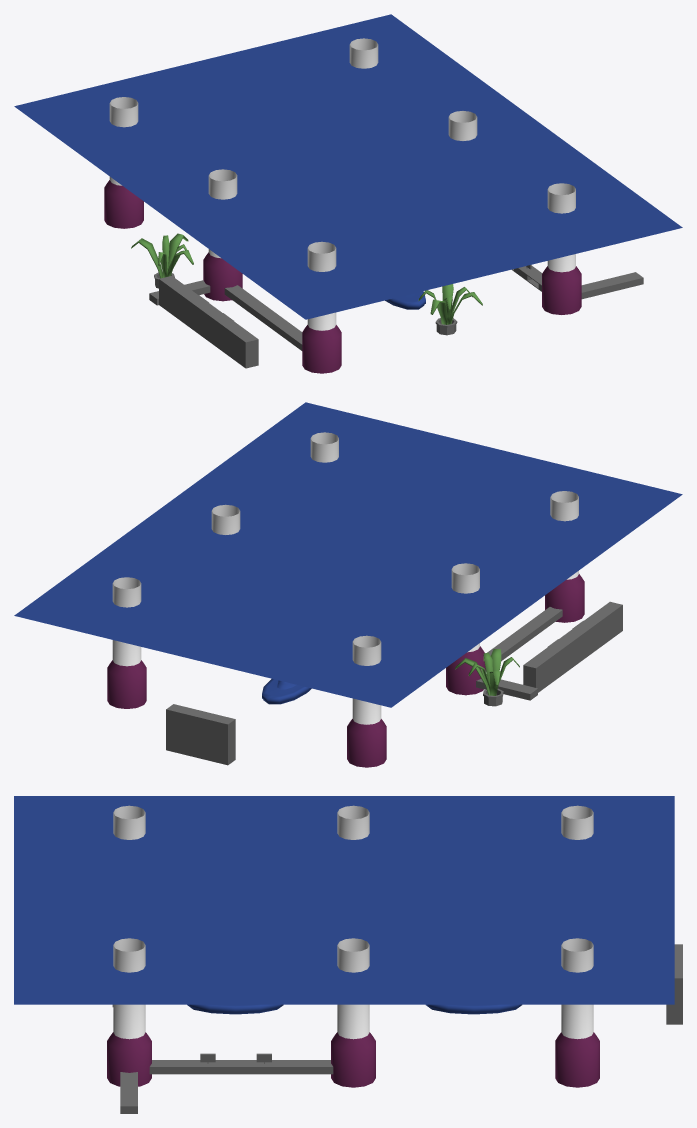
Rendered from Lobby.fbx.
The picture shows the model from 3 angles, top to bottom: view 1: azimuth 30°, elevation 25°; view 2: azimuth 150°, elevation 25°; view 3: azimuth 270°, elevation 25°; orthographic projection. The views are drawn at different scales.
Parts seen in each view (by area): view 1: Ceiling, Pillars, Counter_Closet, Counter, Counter.001, Plane.002, Plane.003; view 2: Ceiling, Pillars, Counter_Closet, Front_Door, Counter, Plane.002, Couch; view 3: Ceiling, Pillars, Counter.001, Front_Door, couch, Couch.
Part boxes in pixels (bbox=[...]): Ceiling: bbox=[14, 14, 682, 319]; Pillars: bbox=[104, 38, 581, 373]; Counter_Closet: bbox=[159, 276, 258, 368]; Counter: bbox=[149, 280, 302, 350]; Counter.001: bbox=[512, 266, 643, 299]; Plane.002: bbox=[131, 233, 193, 278]; Plane.003: bbox=[418, 284, 482, 324]; Ceiling: bbox=[14, 402, 682, 707]; Pillars: bbox=[107, 432, 584, 767]; Counter_Closet: bbox=[523, 601, 622, 692]; Front_Door: bbox=[166, 704, 235, 765]; Counter: bbox=[476, 607, 562, 700]; Plane.002: bbox=[455, 649, 519, 695]; Couch: bbox=[262, 679, 311, 704]; Ceiling: bbox=[14, 796, 674, 1004]; Pillars: bbox=[107, 805, 599, 1087]; Counter.001: bbox=[120, 1060, 333, 1113]; Front_Door: bbox=[666, 944, 682, 1024]; couch: bbox=[187, 1004, 283, 1014]; Couch: bbox=[426, 1004, 521, 1014].
Bounding box in the file's own units: 6020 × 1749 × 7964.
